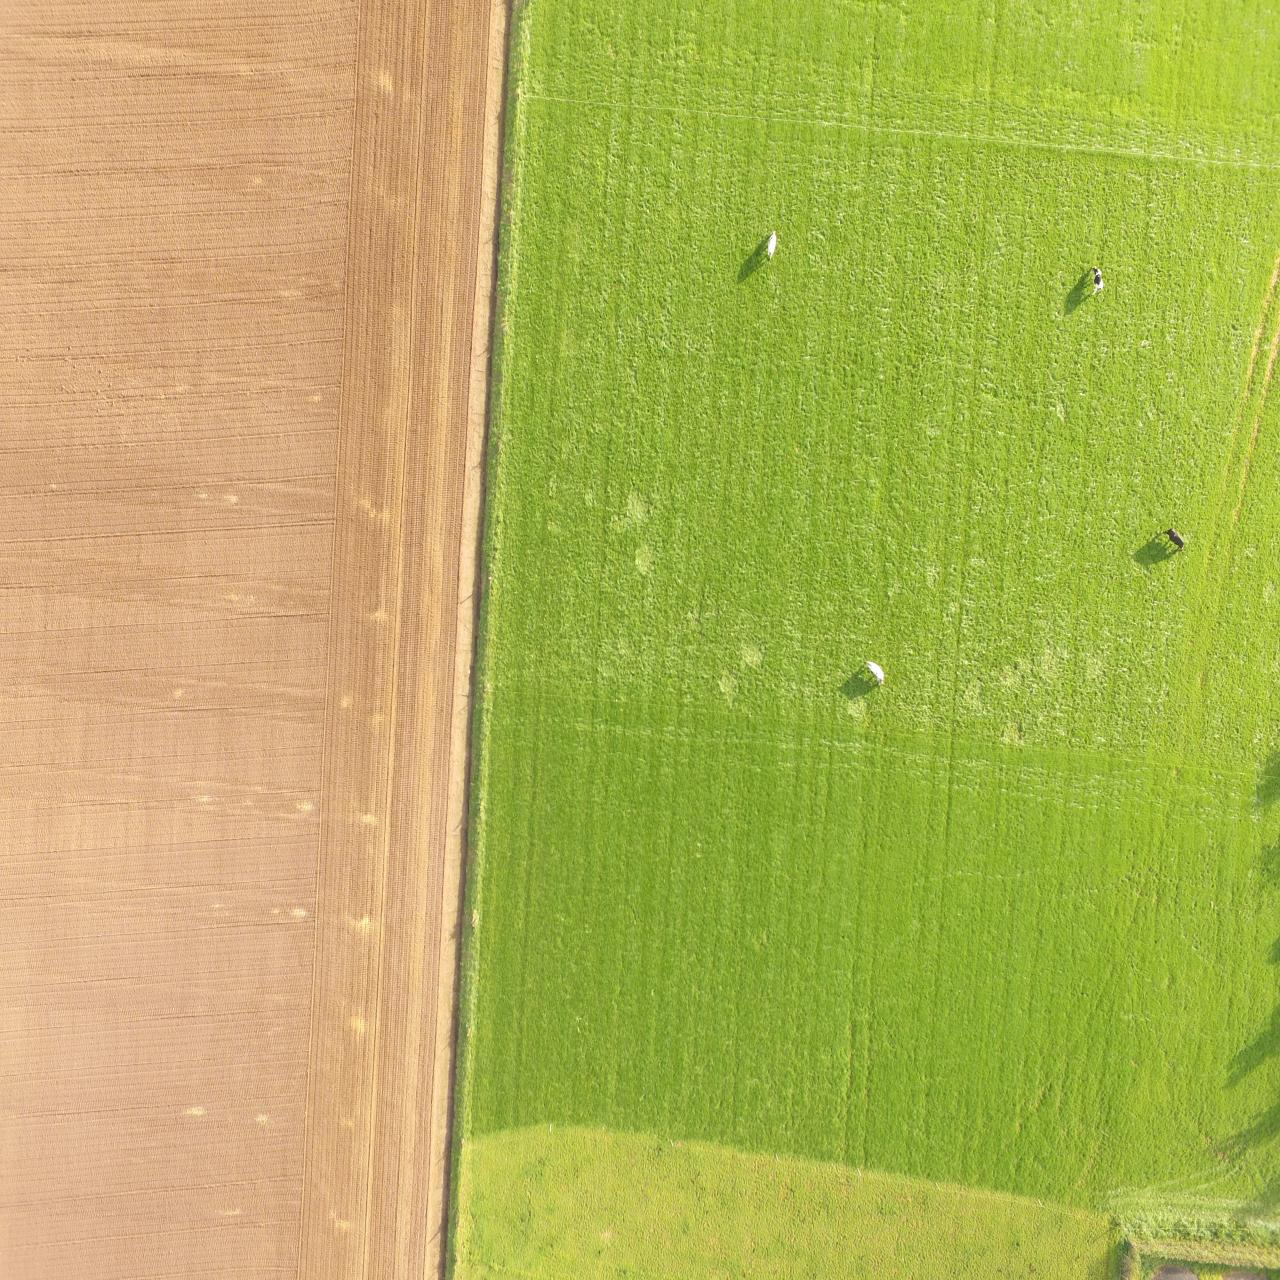cow: (1162, 524, 1184, 551), (865, 659, 885, 687), (1090, 265, 1104, 298), (764, 227, 778, 260)
